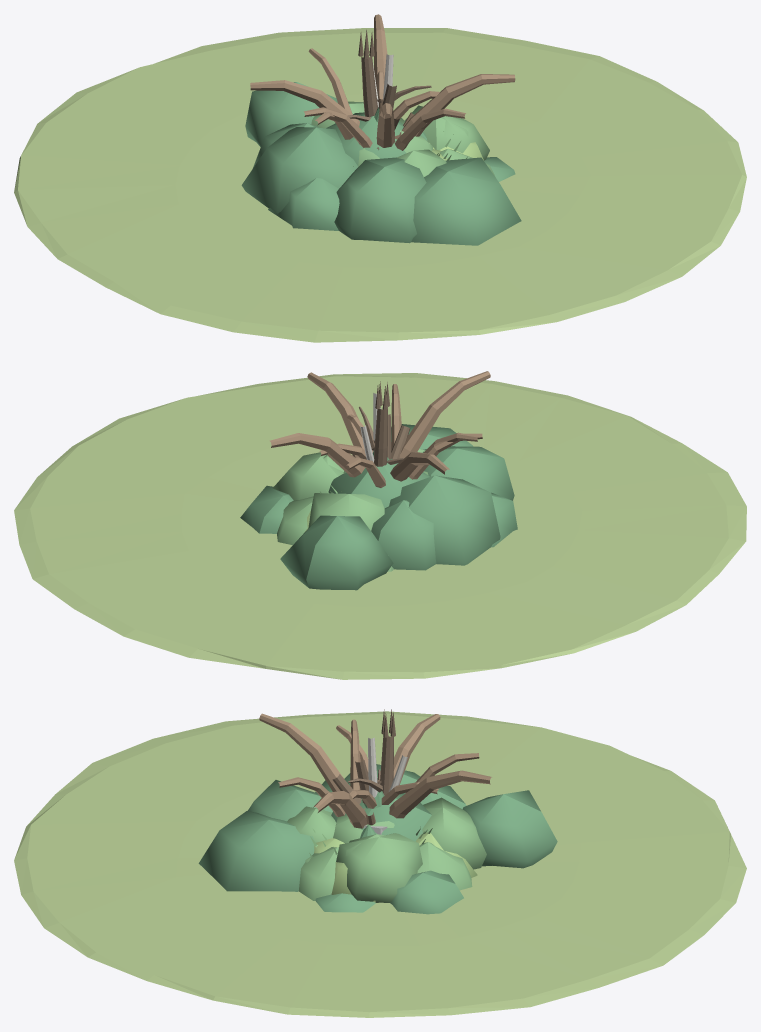
Rendered from stylized_trees_and_rocks.glb.
3 renders of one model, top to bottom at view 1: azimuth 30°, elevation 25°; view 2: azimuth 150°, elevation 25°; view 3: azimuth 270°, elevation 25°, orthographic. The views are drawn at different scales.
Visible parts, largest first — view 1: 000-meadow-disc/0, 001-oak-ancient/1, 001-oak-ancient/0, 002-oak-mature/1, 003-oak-mature/0, 002-oak-mature/0, 017-dead-snag-tall/0, 003-oak-mature/1; view 2: 000-meadow-disc/0, 001-oak-ancient/1, 001-oak-ancient/0, 003-oak-mature/1, 002-oak-mature/1, 017-dead-snag-tall/0, 003-oak-mature/0, 002-oak-mature/0; view 3: 000-meadow-disc/0, 001-oak-ancient/1, 002-oak-mature/1, 001-oak-ancient/0, 003-oak-mature/1, 003-oak-mature/0, 017-dead-snag-tall/0, 002-oak-mature/0, 014-birch-mature/2.
Part boxes in pixels (x1,y1,x2,y2): 000-meadow-disc/0: (14, 28, 746, 342); 001-oak-ancient/1: (241, 82, 521, 245); 001-oak-ancient/0: (250, 14, 515, 147); 002-oak-mature/1: (358, 105, 495, 177); 003-oak-mature/0: (303, 71, 465, 150); 002-oak-mature/0: (308, 48, 439, 139); 017-dead-snag-tall/0: (348, 29, 431, 149); 003-oak-mature/1: (311, 101, 468, 153); 000-meadow-disc/0: (14, 373, 746, 679); 001-oak-ancient/1: (240, 424, 517, 590); 001-oak-ancient/0: (269, 371, 490, 481); 003-oak-mature/1: (277, 454, 384, 545); 002-oak-mature/1: (272, 449, 428, 571); 017-dead-snag-tall/0: (359, 381, 404, 466); 003-oak-mature/0: (319, 384, 478, 459); 002-oak-mature/0: (346, 414, 482, 487); 000-meadow-disc/0: (14, 711, 746, 1017); 001-oak-ancient/1: (198, 764, 557, 914); 002-oak-mature/1: (287, 806, 422, 902); 001-oak-ancient/0: (259, 713, 491, 828); 003-oak-mature/1: (305, 797, 486, 890); 003-oak-mature/0: (278, 719, 438, 816); 017-dead-snag-tall/0: (348, 709, 395, 795); 002-oak-mature/0: (336, 725, 479, 808); 014-birch-mature/2: (314, 832, 477, 902).
Bounding box in the file's own units: 437452 × 196857 × 442003.
